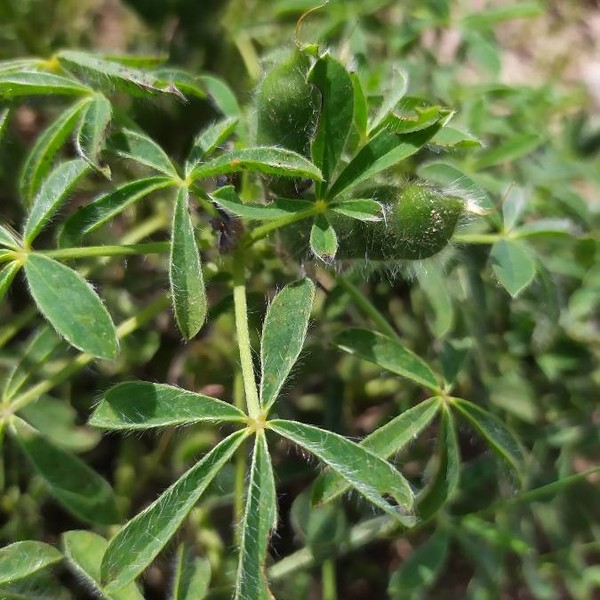obstacle: (61, 70, 414, 551)
